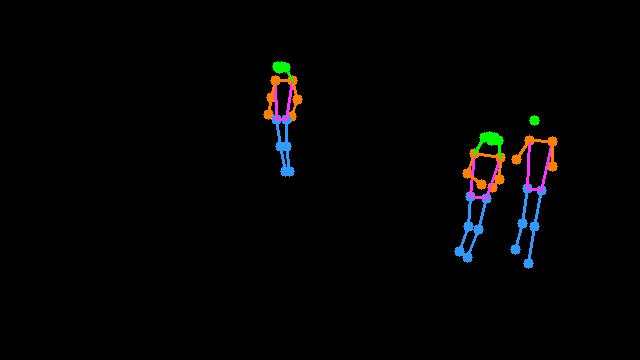normal: (440, 93, 573, 280)
